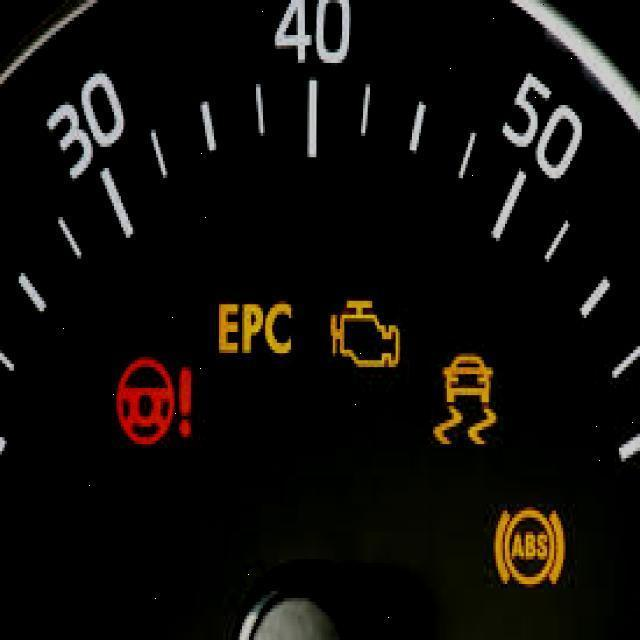Electronic Power Steering Warning: (110, 358, 198, 452)
